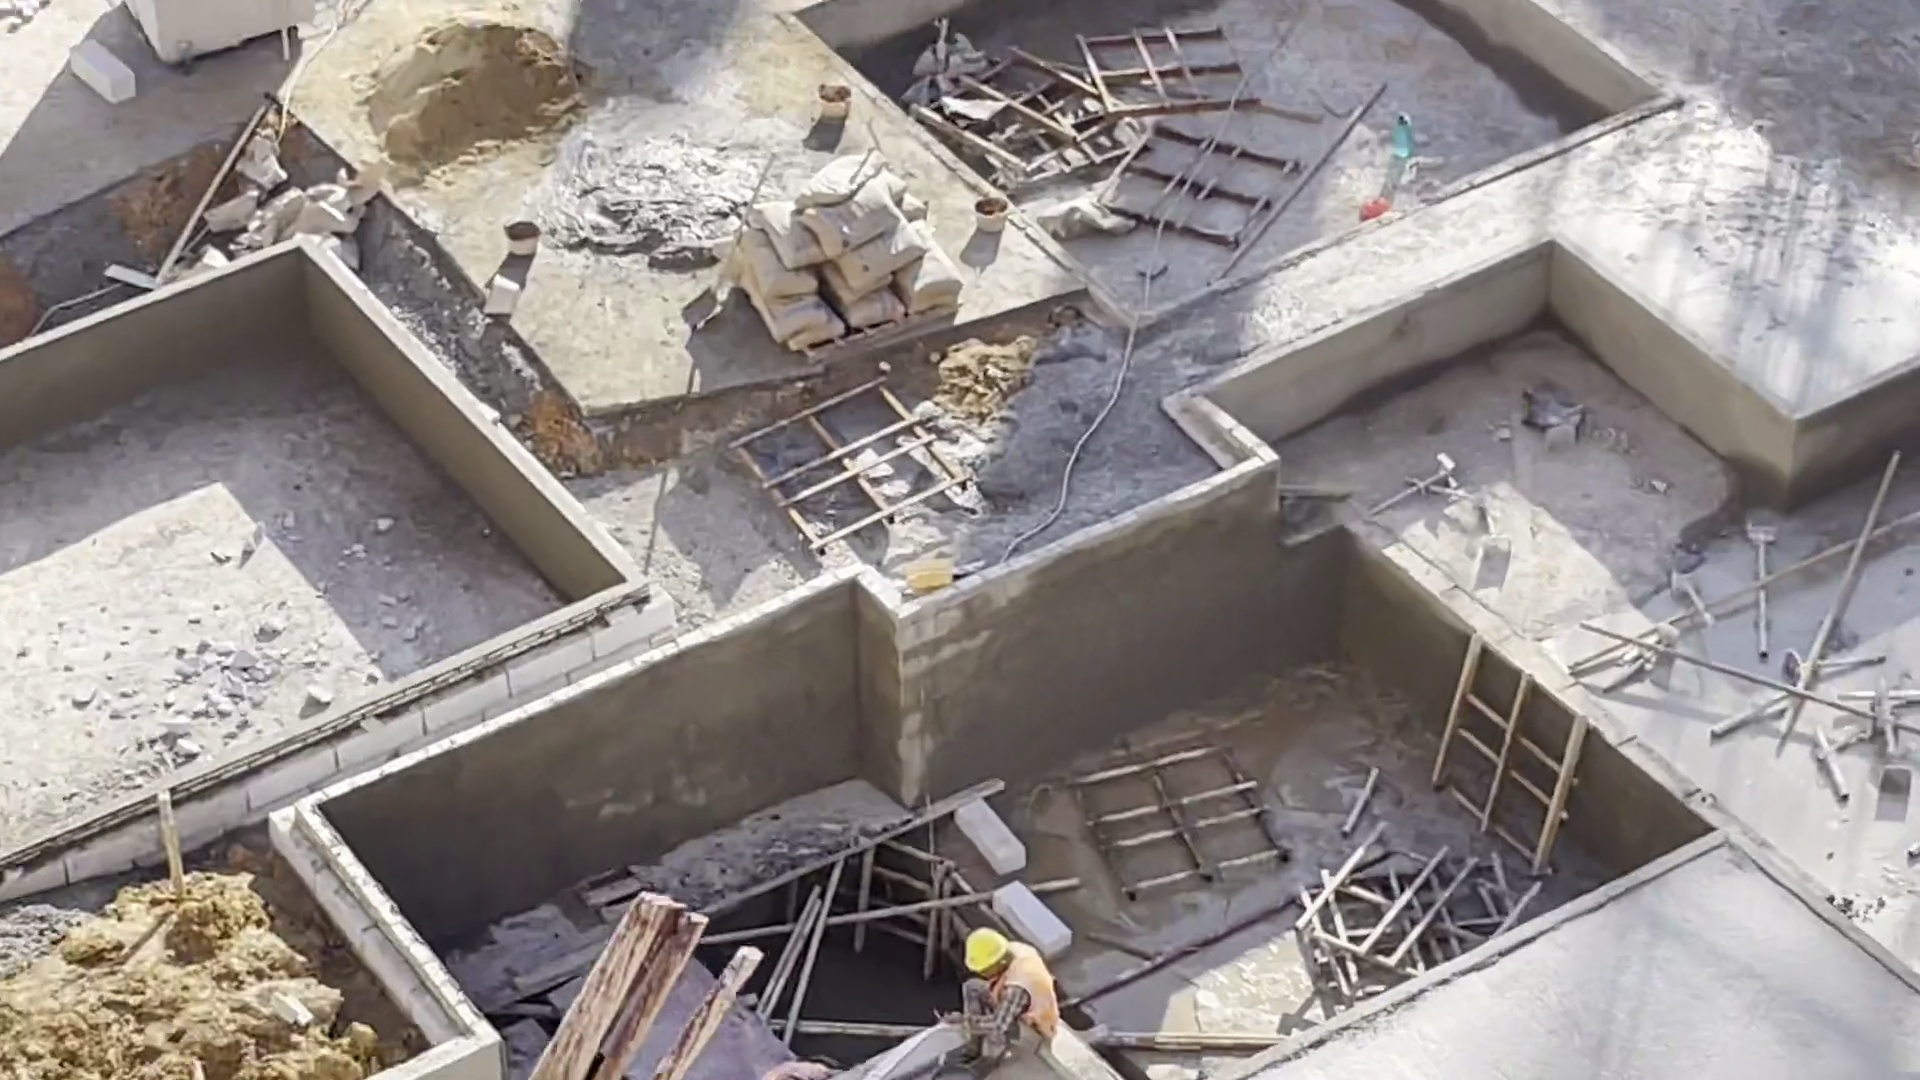helmet: (948, 927, 1019, 982)
person: (944, 930, 1075, 1080)
vest: (997, 945, 1060, 1050)
